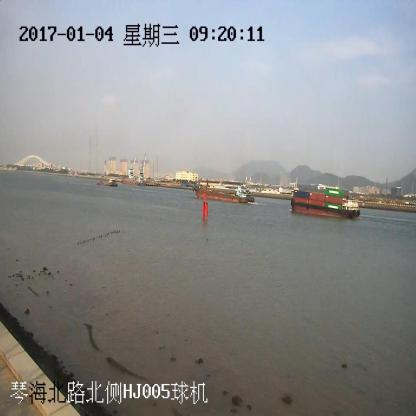Container Ship: (292, 189, 361, 220)
